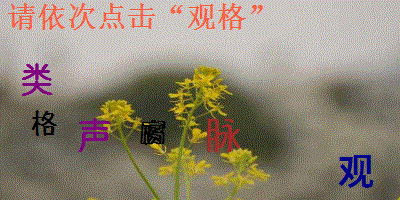result: (185, 2, 249, 31)
text: (204, 116, 242, 157), (336, 153, 376, 191), (20, 61, 56, 97), (76, 117, 111, 154), (29, 108, 57, 139), (139, 117, 167, 147)
